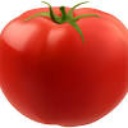tomato: (1, 1, 128, 128)
